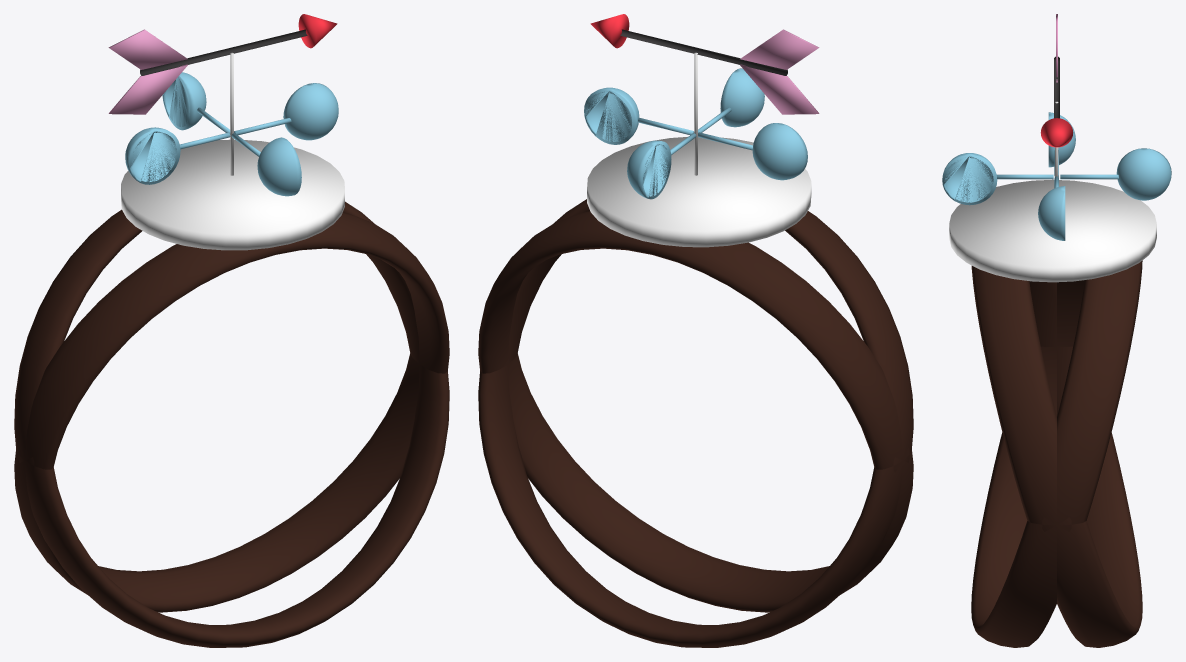
Rendered from windwatch.fbx.
3 renders of one model, left to right at view 1: azimuth 30°, elevation 25°; view 2: azimuth 150°, elevation 25°; view 3: azimuth 270°, elevation 25°, orthographic. The views are drawn at different scales.
Parts seen in each view (by area): view 1: 腕輪, 風車, 風矢; view 2: 腕輪, 風車, 風矢; view 3: 腕輪, 風車, 風矢.
Boxes of the visible parts, bbox=[...] form: 腕輪: bbox=[14, 52, 449, 647]; 風車: bbox=[125, 72, 338, 196]; 風矢: bbox=[108, 14, 337, 114]; 腕輪: bbox=[478, 52, 913, 647]; 風車: bbox=[584, 68, 807, 199]; 風矢: bbox=[590, 14, 819, 114]; 腕輪: bbox=[949, 101, 1156, 647]; 風車: bbox=[942, 112, 1171, 240]; 風矢: bbox=[1040, 14, 1073, 147].
Bounding box in the file's own units: 9.05 × 12.77 × 4.69.
